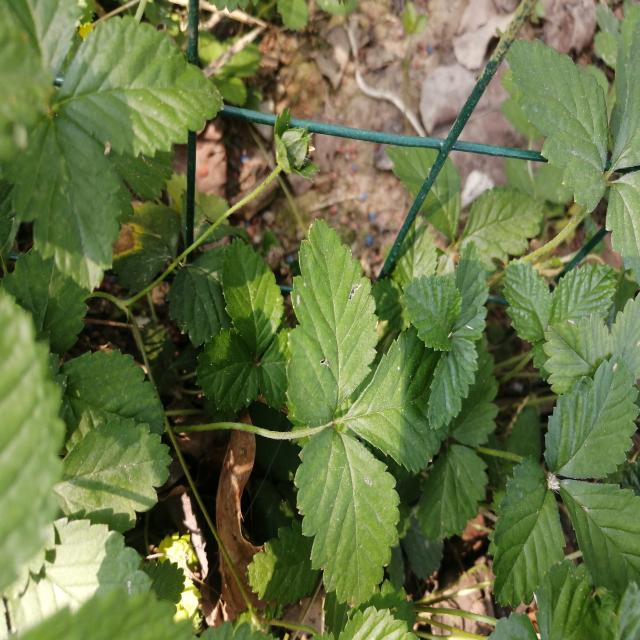Mock_strawberry: (276, 212, 436, 576)
